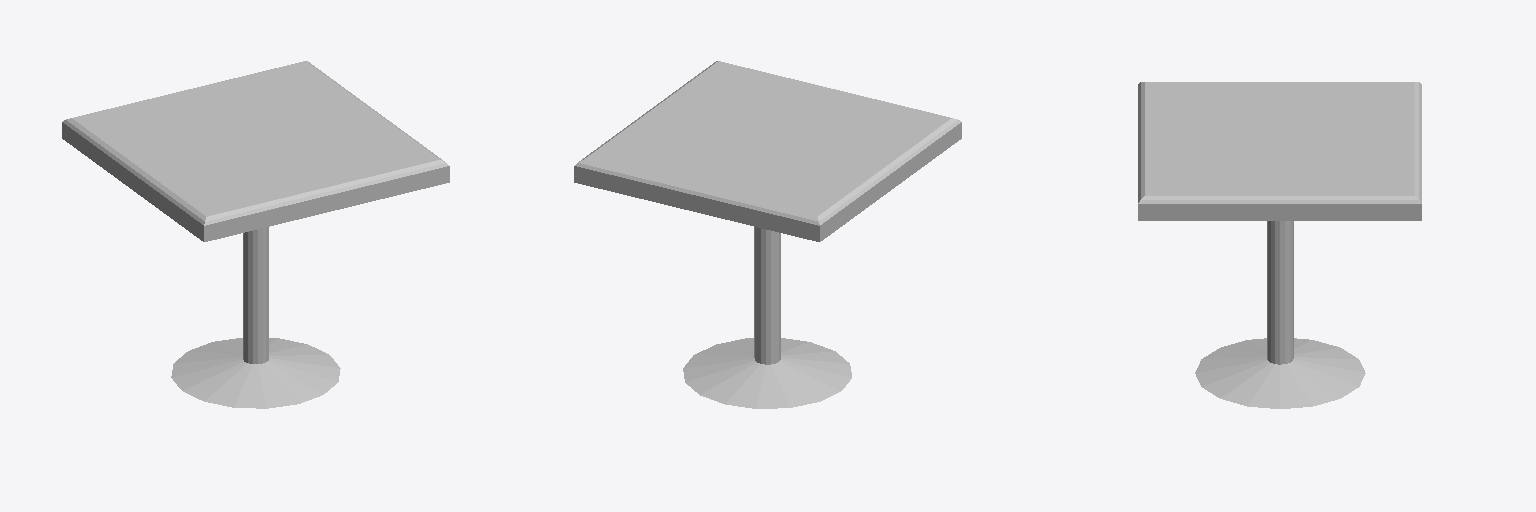
The model's file is table_1.obj.
3 renders of one model, left to right at view 1: azimuth 30°, elevation 25°; view 2: azimuth 150°, elevation 25°; view 3: azimuth 270°, elevation 25°, orthographic.
Parts seen in each view (by area): view 1: Cylinder.005; view 2: Cylinder.005; view 3: Cylinder.005.
Boxes of the visible parts, box(x1,y1,x2,y2) form: Cylinder.005: box(62, 61, 449, 408); Cylinder.005: box(574, 61, 961, 408); Cylinder.005: box(1138, 82, 1421, 408).
Size of the model in its own units: 5.86 by 5.34 by 5.86.